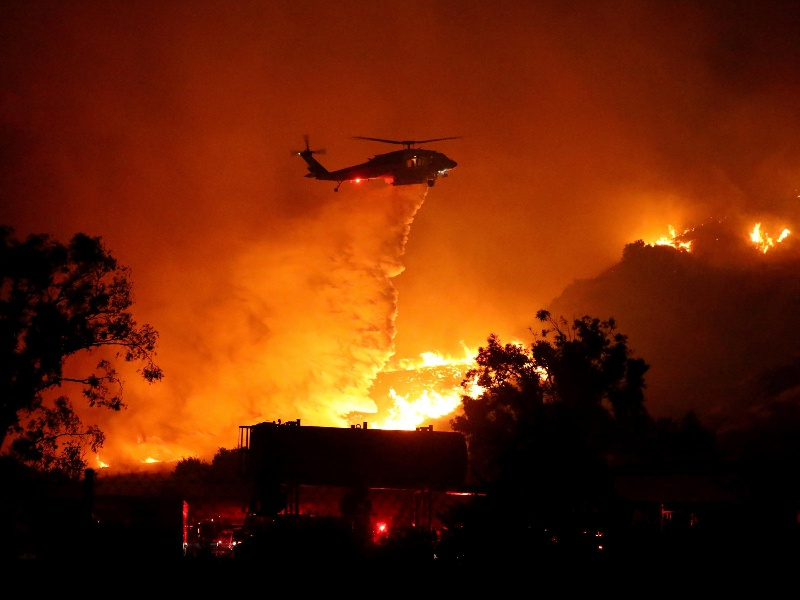fire: (361, 374, 473, 430), (392, 342, 476, 373), (749, 223, 800, 256), (650, 223, 692, 248)
